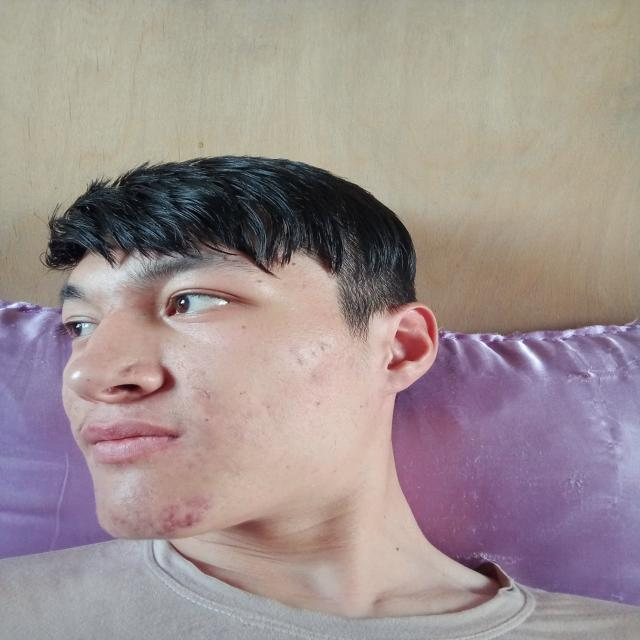Acne: (294, 342, 330, 366), (164, 512, 202, 534), (189, 382, 215, 400), (183, 496, 212, 510), (114, 456, 137, 467), (106, 515, 130, 525), (147, 522, 165, 534), (164, 504, 180, 511), (182, 462, 197, 469), (122, 366, 134, 374), (129, 525, 141, 532)
Englarged-Pores: (160, 344, 208, 384)
